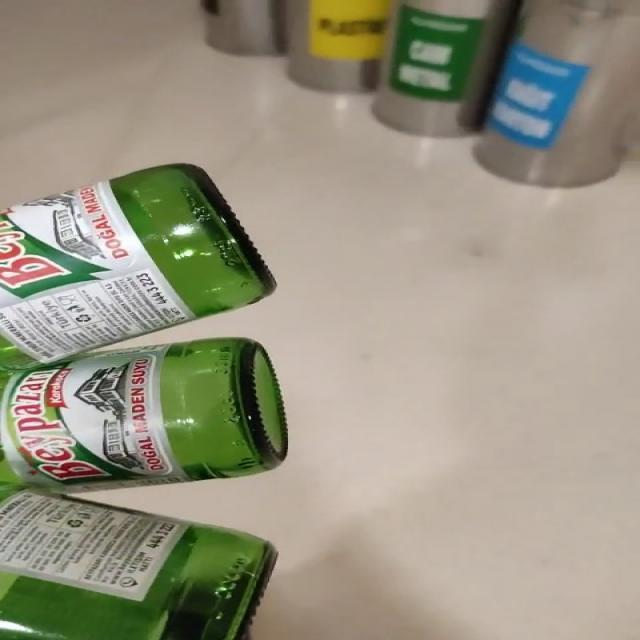Glass: (1, 164, 288, 640)
